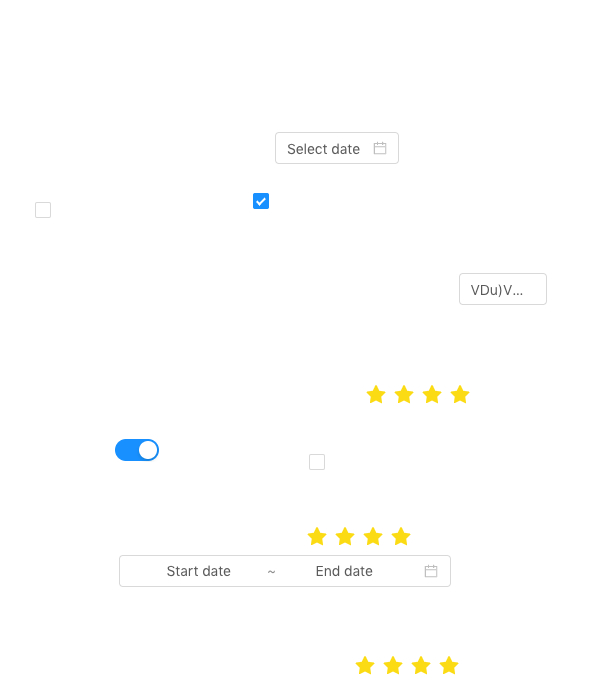Checkbox: (35, 199, 51, 220), (253, 190, 269, 211), (309, 451, 325, 472)
DatePicker: (275, 132, 399, 164)
Input: (459, 273, 552, 305)
RangePicker: (119, 555, 457, 587)
Rate: (307, 520, 427, 552), (366, 378, 486, 410), (355, 649, 475, 681)
Switch: (115, 438, 159, 462)
